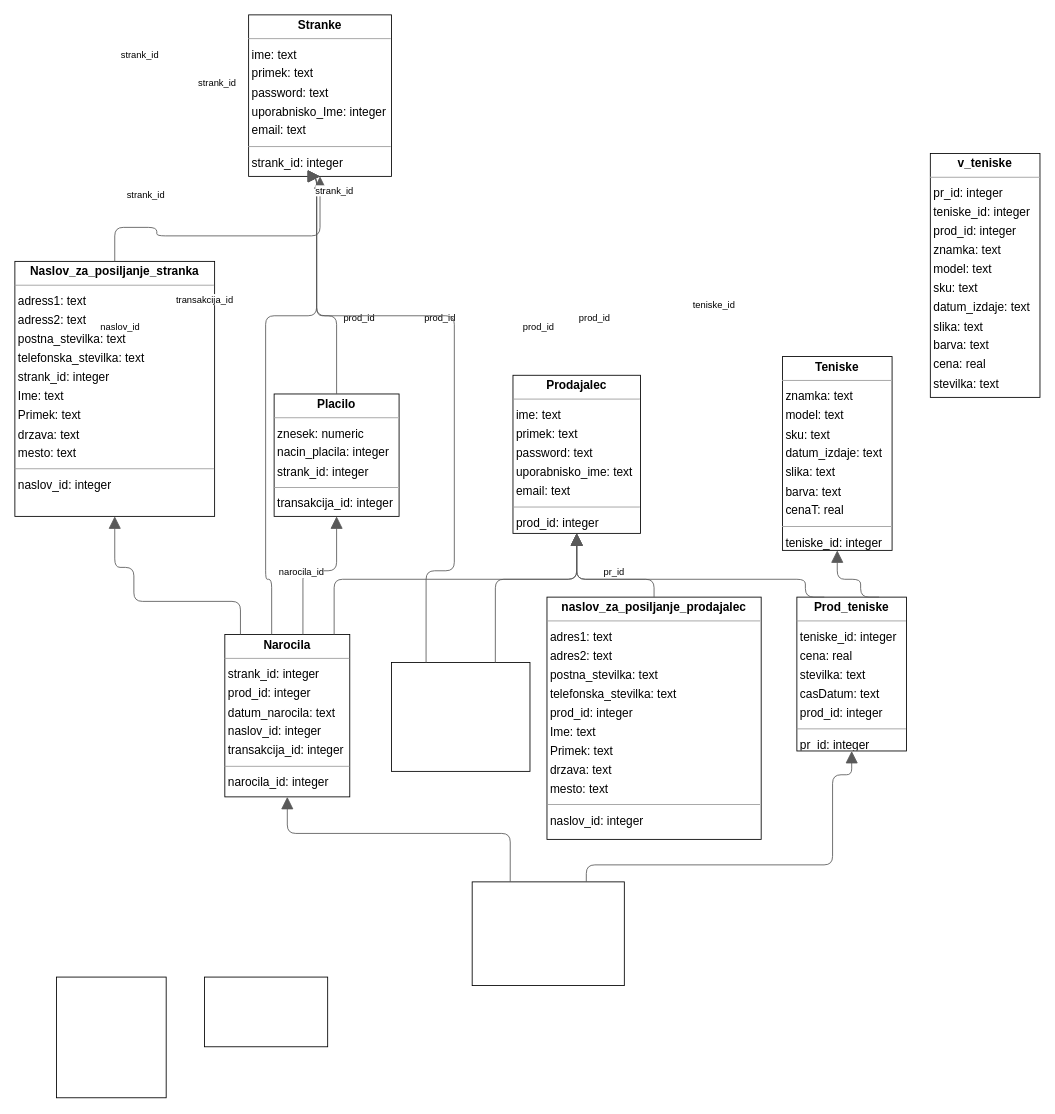
Image size: 1055x1114. Some labels were removed from this diagram. Here are the shapes that lost their labels. From the top down, the centre of each, then its label:
At [460,716]: "povezava_racunov strank_id: integer prod_id: integer povezava_id: integer".
At [547,933]: "Predmet_narocil narocila_id: integer pr_id: integer predmet_narocil_id: integer".
At [266,1011]: "sqlite_sequence name: unknown seq: unknown".
At [111,1037]: "sqlite_master type: text name: text tbl_name: text rootpage: int sql: text".
